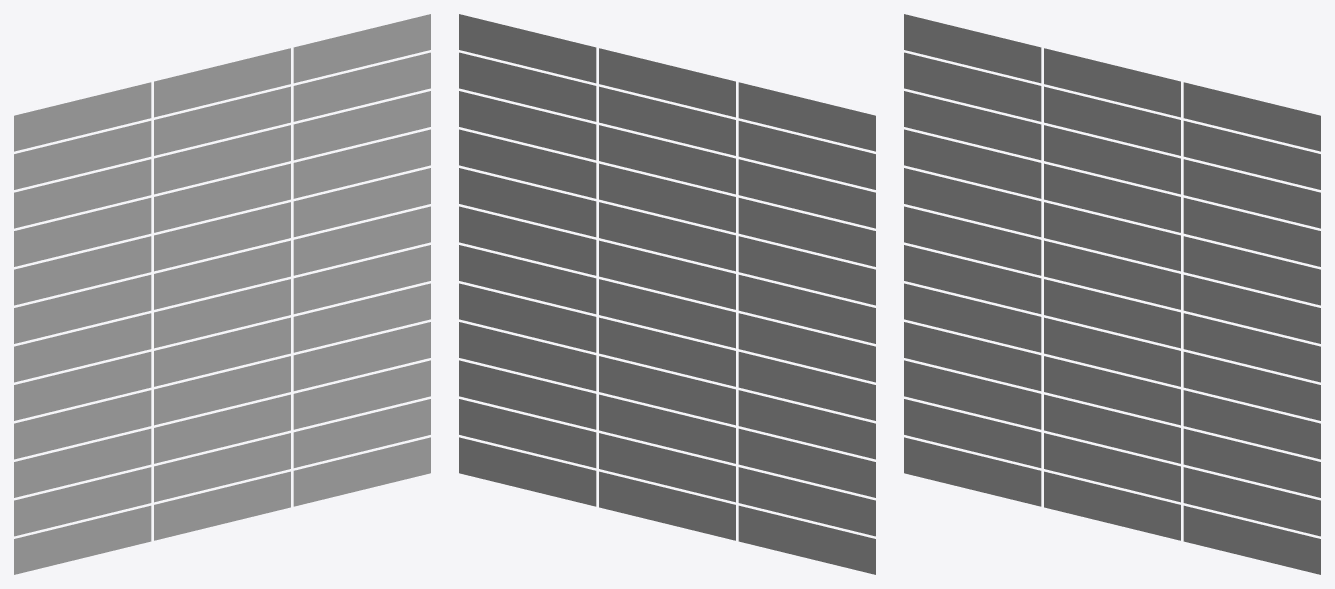
The model's file is fiddlestickmosaic.gltf.
The picture shows the model from 3 angles, left to right: view 1: azimuth 30°, elevation 25°; view 2: azimuth 150°, elevation 25°; view 3: azimuth 330°, elevation 25°; orthographic projection.
Visible parts, largest first — view 1: fiddlestickmosaic; view 2: fiddlestickmosaic; view 3: fiddlestickmosaic.
Boxes of the visible parts, box(x1,y1,x2,y2) form: fiddlestickmosaic: box(14, 14, 430, 574); fiddlestickmosaic: box(459, 14, 875, 574); fiddlestickmosaic: box(904, 14, 1320, 574).
Bounding box in the file's own units: 270 × 284 × 0.
Materials: 36 (36 with a texture image).
